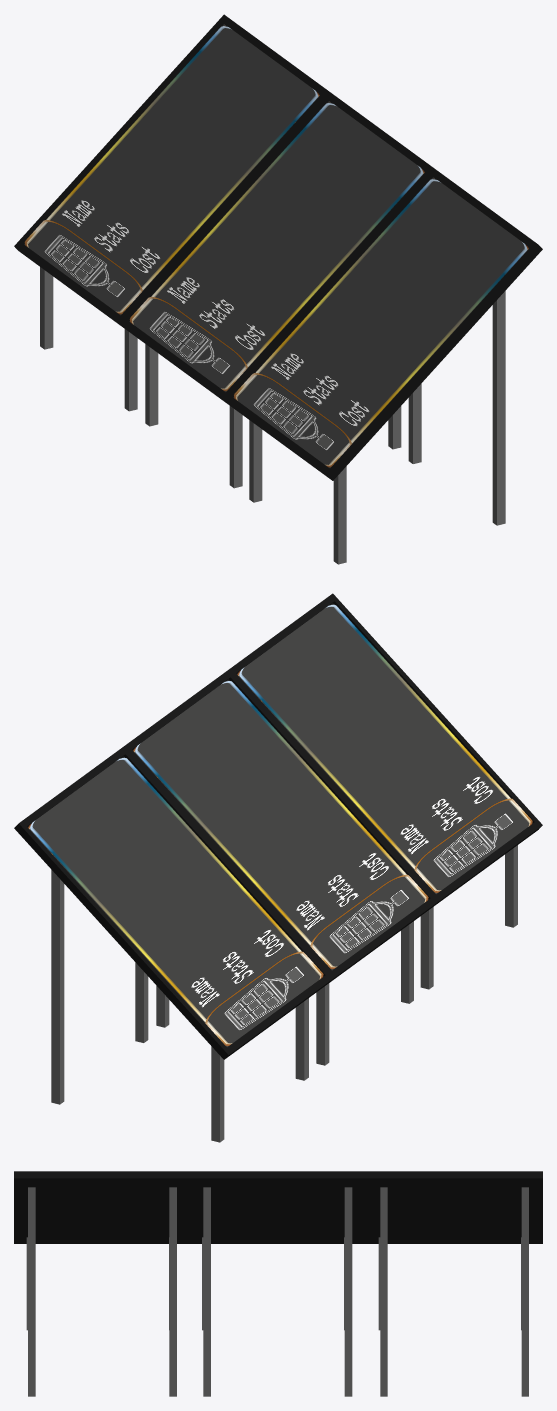
File: Solar Panel 3.FBX
3 renders of one model, top to bottom at view 1: azimuth 30°, elevation 25°; view 2: azimuth 150°, elevation 25°; view 3: azimuth 270°, elevation 25°, orthographic. The views are drawn at different scales.
Visible parts, largest first — view 1: Box001; view 2: Box001; view 3: Box001.
Part boxes in pixels (x1,y1,x2,y2): Box001: (14,14,542,564); Box001: (14,593,542,1142); Box001: (14,1171,542,1396).
Size of the model in its own units: 12.62 by 15.69 by 31.99.
